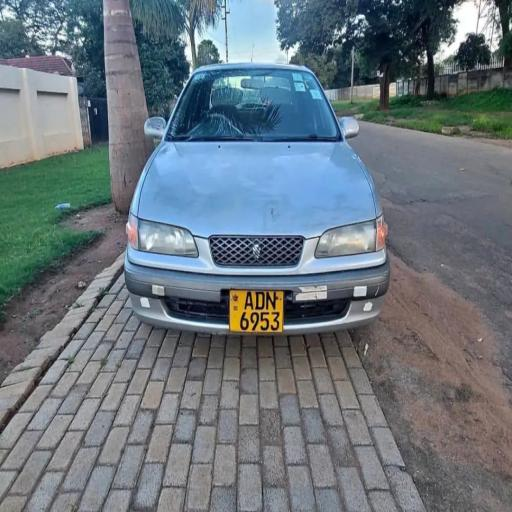number-plates: (229, 286, 284, 336)
